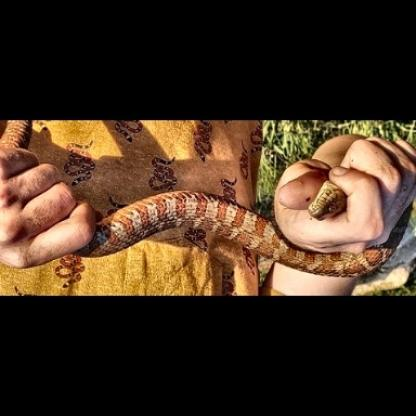Snake: (16, 127, 415, 284), (302, 174, 351, 224)
